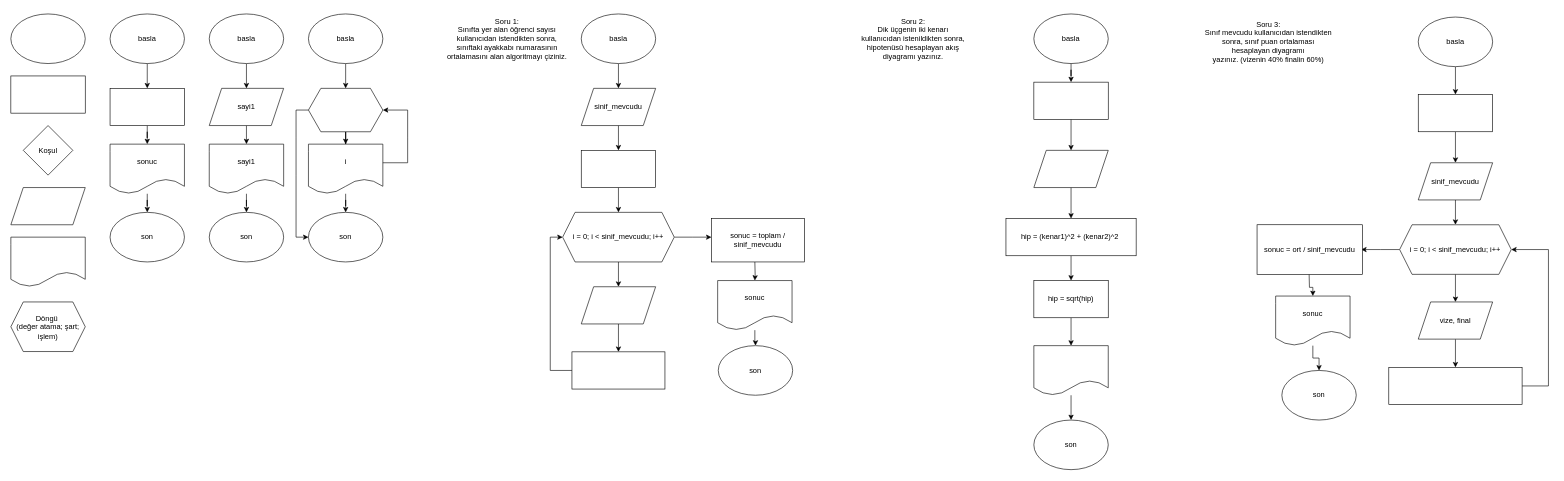
The diagram is 1564 pixels wide and 481 high, and some of its shapes have lost their labels. Here are the shapes that lost their labels. From the top down, the box of each, then its label:
(10, 13, 85, 64): Başlangıç / Bitiş
(10, 75, 85, 113): Değer Atama / İşlem
(109, 88, 184, 126): sonuc = 3 + 5
(308, 88, 383, 132): i = 0; i < 10; i++
(1033, 82, 1108, 119): hip, kenar1, kenar2
(1418, 94, 1493, 132): sinif_mevcudu, vize, final, ort, sonuc
(581, 150, 656, 188): toplam = 0
(1033, 150, 1108, 188): kenar1, kenar2
(10, 187, 85, 225): Girdi
(10, 237, 85, 287): Ekrana Yazdırma
(581, 286, 656, 324): a_no
(571, 351, 665, 389): toplam = toplam + a_no toplam += a_no
(1033, 345, 1108, 395): "Hipotenüs" = hip
(1388, 367, 1522, 405): ort += ((vize * 40) + (final * 60)) / 100
